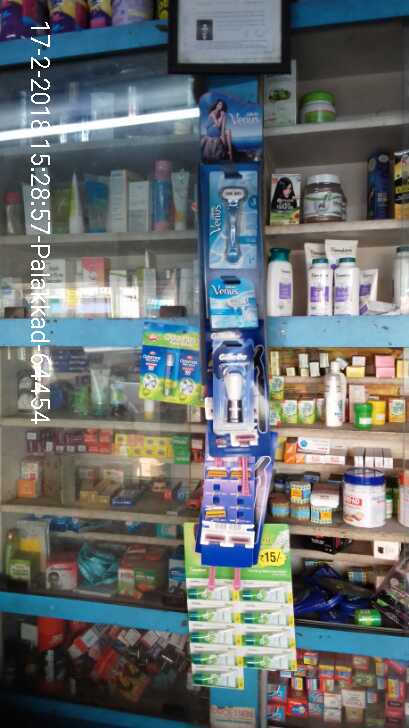beauty: (200, 169, 260, 269), (213, 333, 253, 429), (209, 274, 260, 326)
